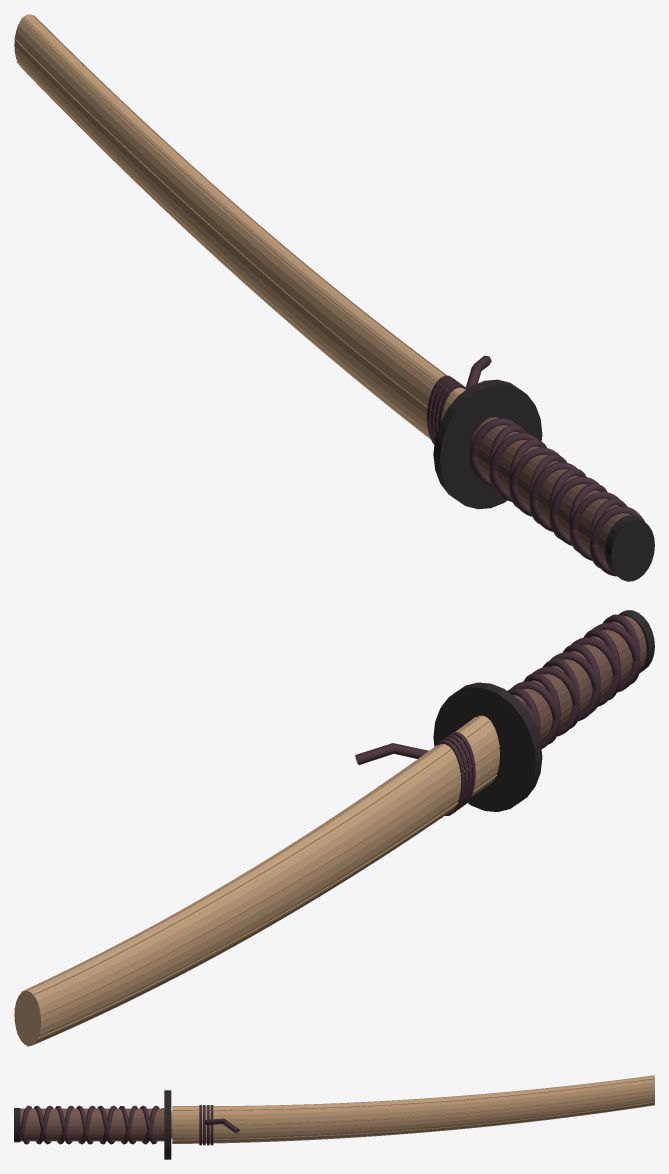
File: Tachi.glb
The picture shows the model from 3 angles, top to bottom: view 1: azimuth 30°, elevation 25°; view 2: azimuth 150°, elevation 25°; view 3: azimuth 270°, elevation 25°; orthographic projection. The views are drawn at different scales.
Visible parts, largest first — view 1: Saya, Grip; view 2: Saya, Grip; view 3: Saya, Grip.
Boxes of the visible parts, bbox=[...] form: Saya: bbox=[14, 14, 491, 444]; Grip: bbox=[433, 379, 654, 581]; Saya: bbox=[14, 715, 499, 1046]; Grip: bbox=[433, 610, 654, 811]; Saya: bbox=[172, 1075, 654, 1145]; Grip: bbox=[14, 1090, 172, 1159].
Bounding box in the file's own units: 0.1142 × 0.1413 × 1.
